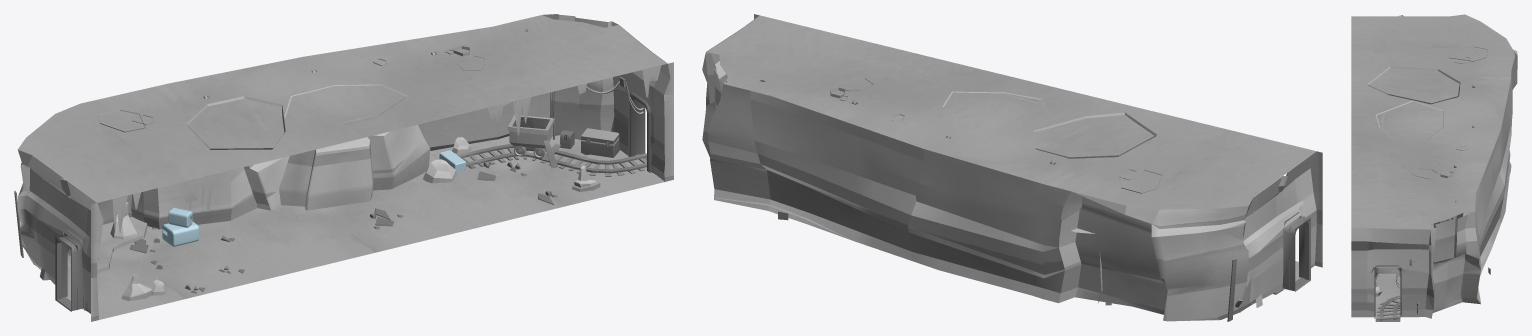
Rendered from MSH_QuestCave_L1_R3_optimized.fbx.
3 renders of one model, left to right at view 1: azimuth 30°, elevation 25°; view 2: azimuth 150°, elevation 25°; view 3: azimuth 270°, elevation 25°, orthographic. The views are drawn at different scales.
Parts seen in each view (by area): view 1: lightmap2, lightmap0; view 2: lightmap2, lightmap0; view 3: lightmap2, lightmap0.
Part boxes in pixels (x1=…): lightmap2: x1=17, y1=14, x2=673, y2=321; lightmap0: x1=14, y1=29, x2=651, y2=311; lightmap2: x1=702, y1=14, x2=1322, y2=321; lightmap0: x1=746, y1=80, x2=1310, y2=321; lightmap2: x1=1351, y1=14, x2=1517, y2=318; lightmap0: x1=1371, y1=85, x2=1490, y2=321.
Size of the model in its own units: 30.93 by 6.17 by 9.92.
